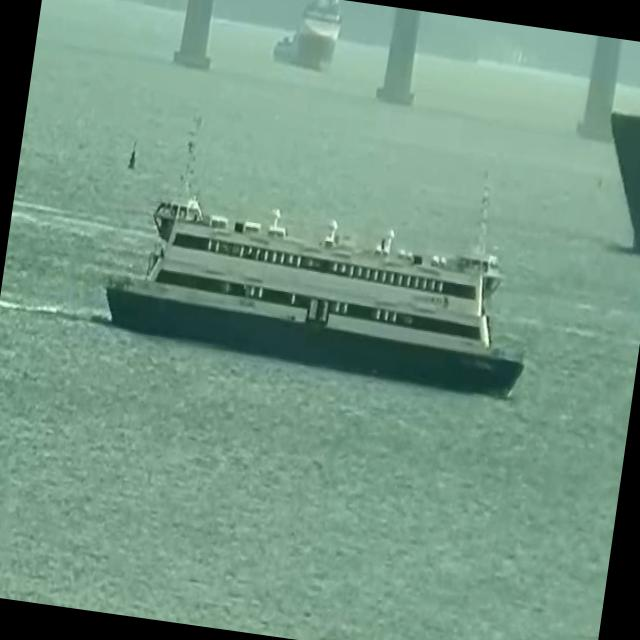Passenger: (108, 117, 523, 396)
